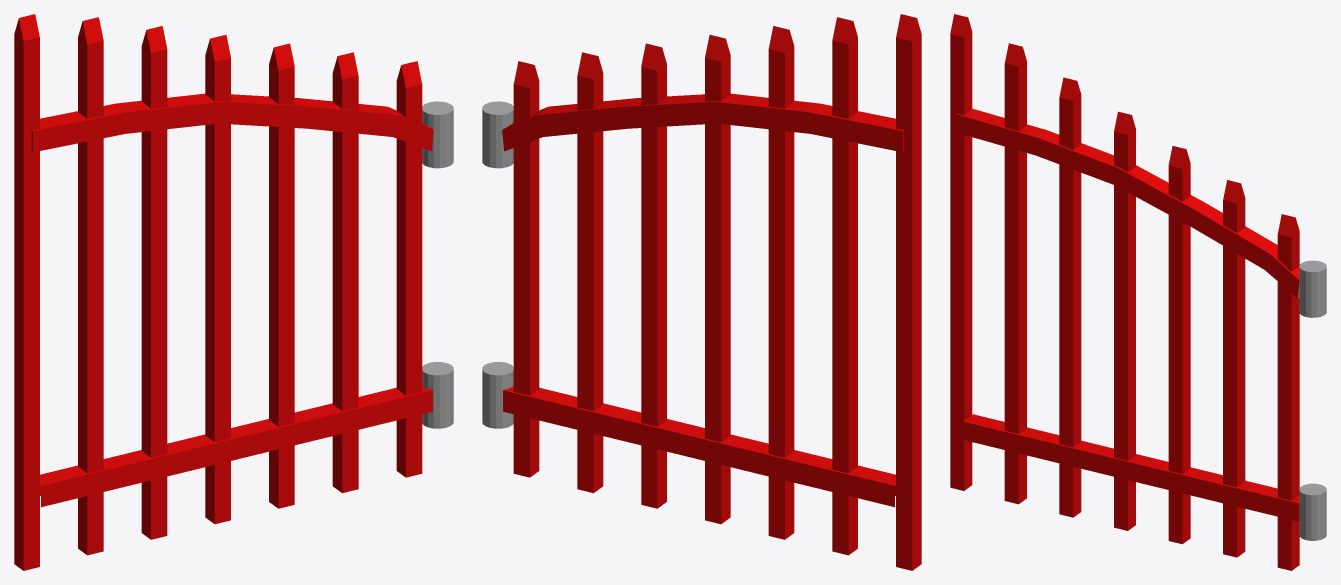
File: GothicGateSide_NoUV.fbx
The picture shows the model from 3 angles, left to right: view 1: azimuth 30°, elevation 25°; view 2: azimuth 150°, elevation 25°; view 3: azimuth 330°, elevation 25°; orthographic projection. The views are drawn at different scales.
Parts seen in each view (by area): view 1: GothicGraveyardGate; view 2: GothicGraveyardGate; view 3: GothicGraveyardGate.
Boxes of the visible parts, bbox=[...] form: GothicGraveyardGate: bbox=[14, 14, 453, 570]; GothicGraveyardGate: bbox=[482, 14, 921, 570]; GothicGraveyardGate: bbox=[950, 14, 1326, 570].
Bounding box in the file's own units: 238 × 288 × 15.4.
